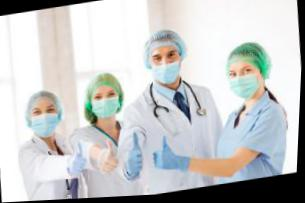OK: (228, 64, 261, 106), (28, 103, 62, 142), (91, 87, 122, 123)
WRONG: (151, 50, 184, 90)
